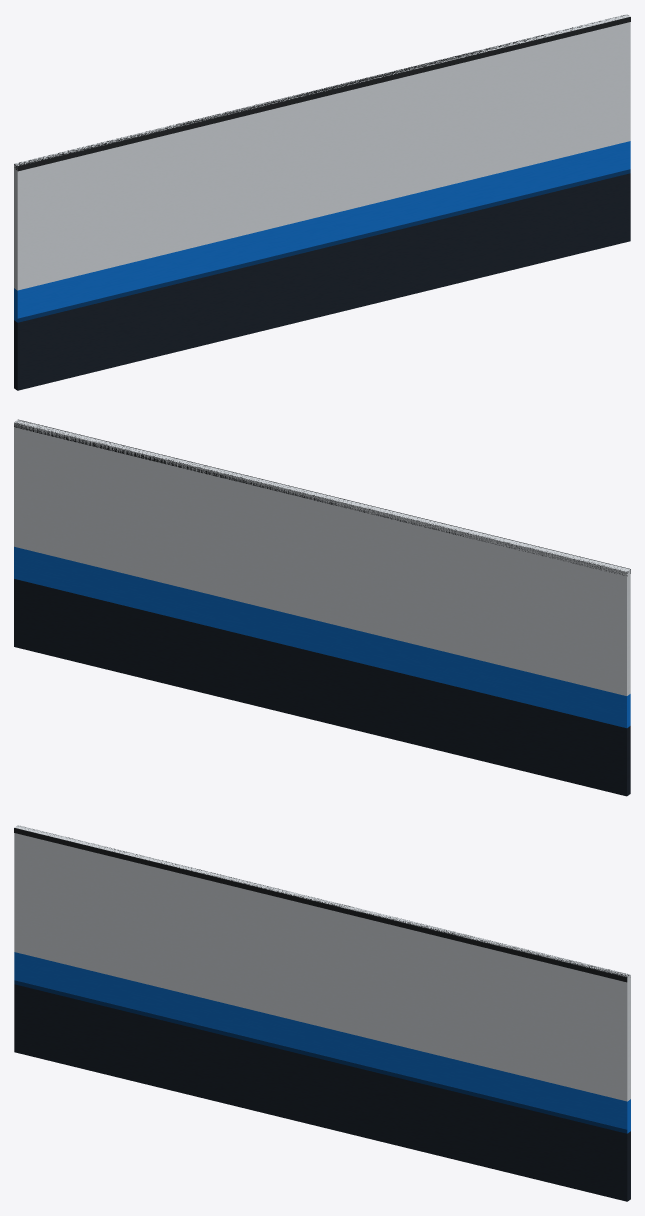
Rendered from pared de taller.glb.
3 renders of one model, top to bottom at view 1: azimuth 30°, elevation 25°; view 2: azimuth 150°, elevation 25°; view 3: azimuth 330°, elevation 25°, orthographic.
Parts seen in each view (by area): view 1: Pared_Atras, ParedBaja_Atras, Franja_Atras, Remate_Atras, FranjaOsc_Atras; view 2: Pared_Atras, ParedBaja_Atras, Franja_Atras, Remate_Atras; view 3: Pared_Atras, ParedBaja_Atras, Franja_Atras, Remate_Atras, FranjaOsc_Atras.
Part boxes in pixels (x1,y1,x2,y2): Pared_Atras: (14,14,630,290); ParedBaja_Atras: (14,173,630,390); Franja_Atras: (14,141,630,322); Remate_Atras: (14,15,630,171); FranjaOsc_Atras: (17,169,630,322); Pared_Atras: (14,420,630,695); ParedBaja_Atras: (14,579,630,796); Franja_Atras: (14,546,630,728); Remate_Atras: (14,419,630,576); Pared_Atras: (14,825,630,1101); ParedBaja_Atras: (14,984,630,1201); Franja_Atras: (14,952,630,1133); Remate_Atras: (14,826,629,982); FranjaOsc_Atras: (14,980,627,1133).
Bounding box in the file's own units: 800 × 280 × 9.
Materials: 5 (5 with a texture image).
